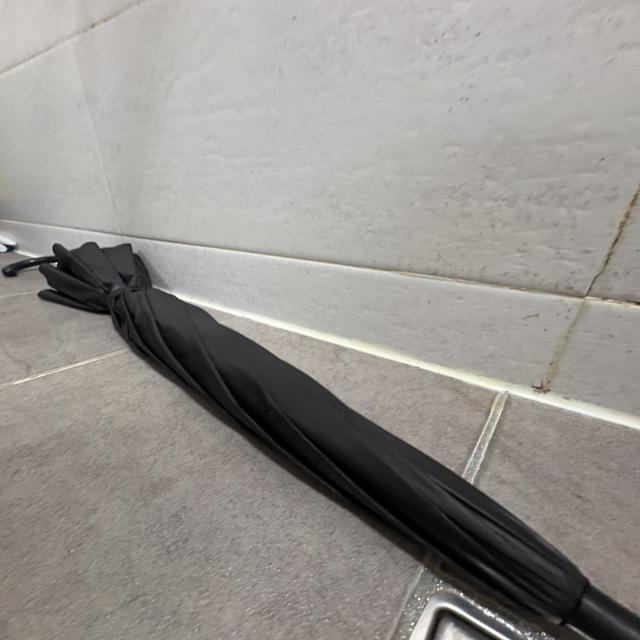umbrella: (6, 238, 640, 640)
